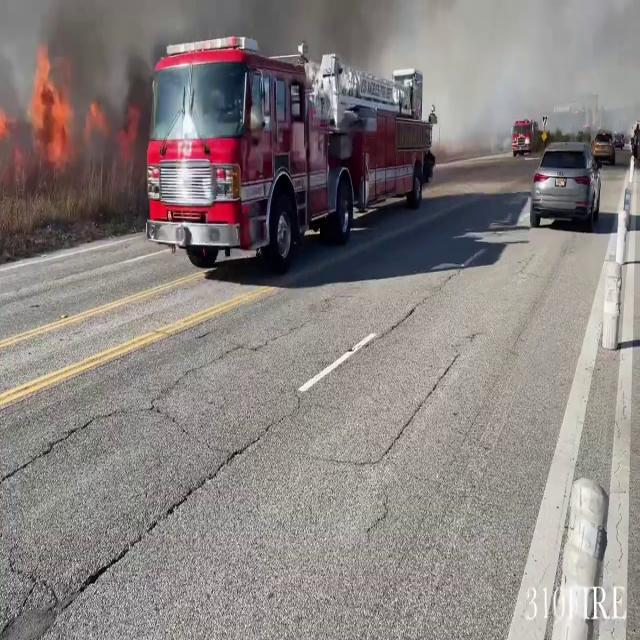Fire: (23, 36, 76, 171)
Smoke: (0, 2, 149, 202)
